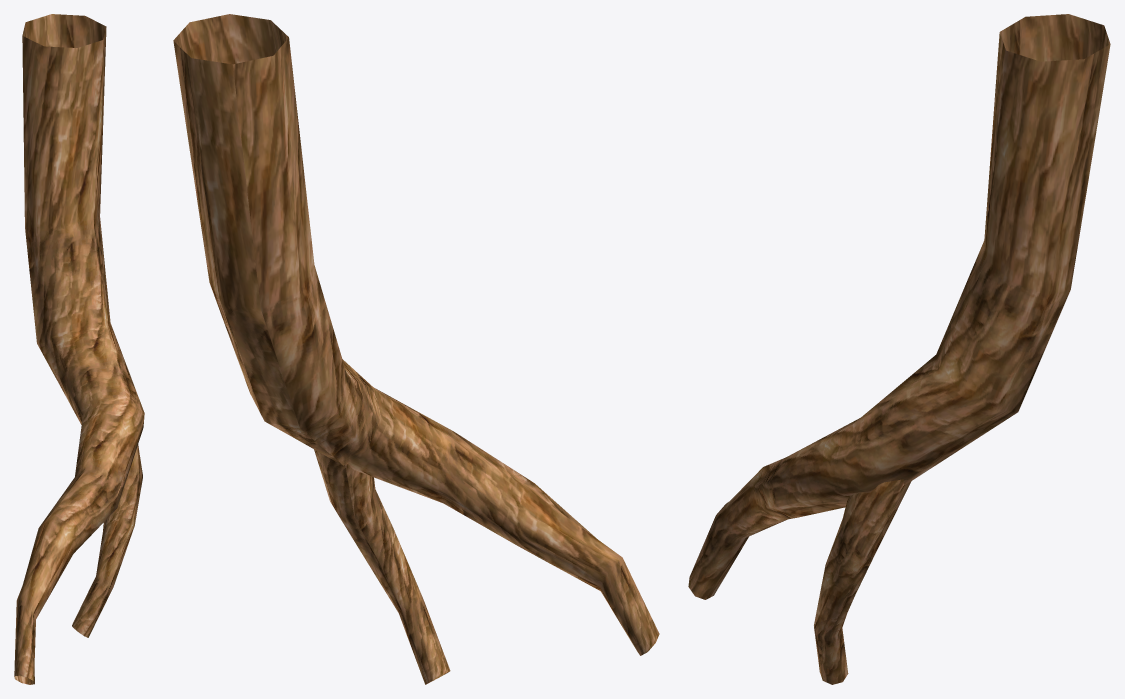
File: EKH_THRONE_PS_TH_ROOT_03.fbx
3 views of the same model, side by side, from view 1: azimuth 30°, elevation 25°; view 2: azimuth 150°, elevation 25°; view 3: azimuth 270°, elevation 25° (orthographic). The views are drawn at different scales.
Parts seen in each view (by area): view 1: EKH_THRONE_PS_TH_ROOT_03; view 2: EKH_THRONE_PS_TH_ROOT_03; view 3: EKH_THRONE_PS_TH_ROOT_03.
Part boxes in pixels (left/top/right/bottom): EKH_THRONE_PS_TH_ROOT_03: left=14, top=14, right=144, bottom=684; EKH_THRONE_PS_TH_ROOT_03: left=173, top=14, right=659, bottom=684; EKH_THRONE_PS_TH_ROOT_03: left=688, top=14, right=1110, bottom=684.
Bounding box in the file's own units: 55510 × 127392 × 70887.
1 material, 1 textured.
